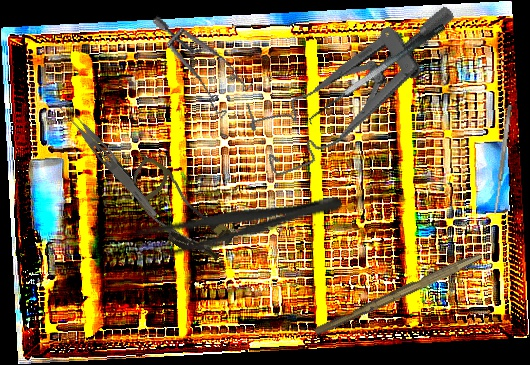Cannula: (114, 154, 244, 270)
Dressing Forceps: (115, 181, 346, 272), (55, 98, 164, 220)
Scalpel Handle: (313, 247, 483, 340)
Spatula Surgical: (303, 22, 454, 132), (491, 104, 514, 216)
Speculum: (233, 2, 486, 181), (130, 14, 265, 126)
